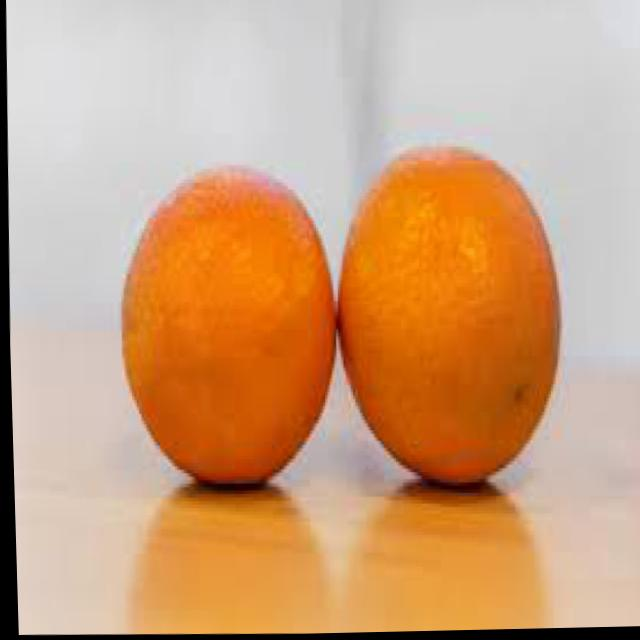orange: (326, 140, 567, 491), (109, 160, 341, 492)
